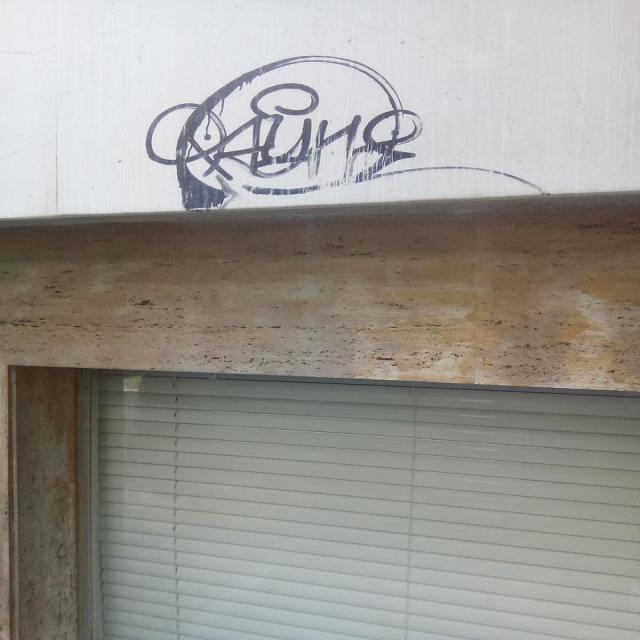nonspitting: (147, 52, 548, 209)
